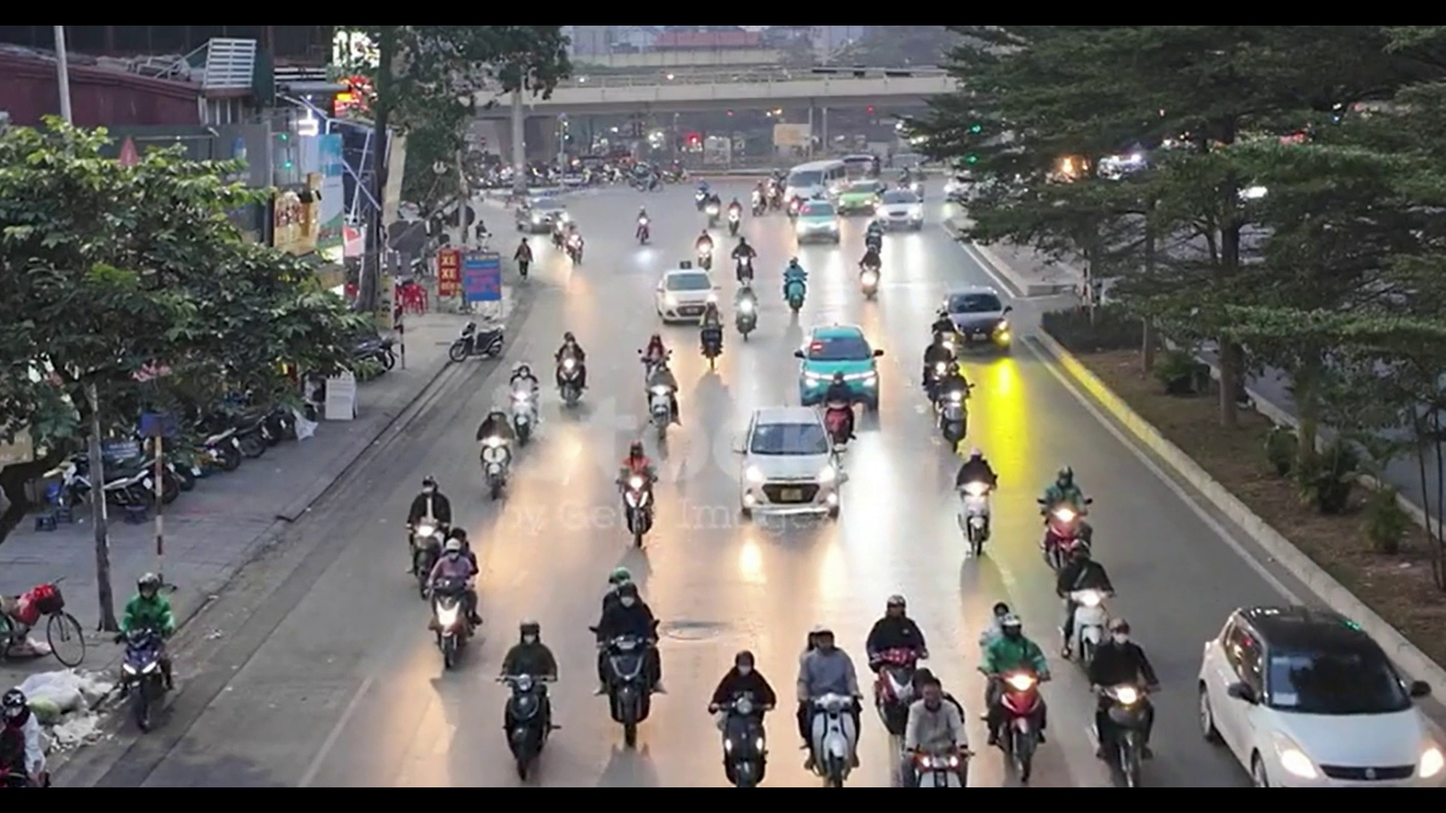car: (1197, 603, 1445, 788), (734, 410, 842, 523), (795, 323, 880, 410), (943, 286, 1014, 350), (655, 267, 721, 324)
motorcycle: (596, 633, 661, 754), (1089, 677, 1158, 787), (1, 582, 87, 666), (986, 673, 1047, 784), (797, 687, 863, 788), (710, 694, 770, 788), (503, 676, 553, 784), (428, 582, 482, 673), (957, 485, 993, 557)
